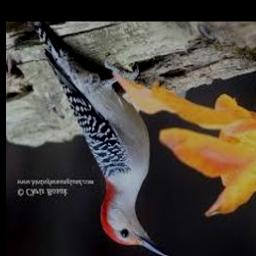Woodpecker: (29, 21, 169, 256)
